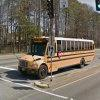Bus: (18, 27, 94, 76)
